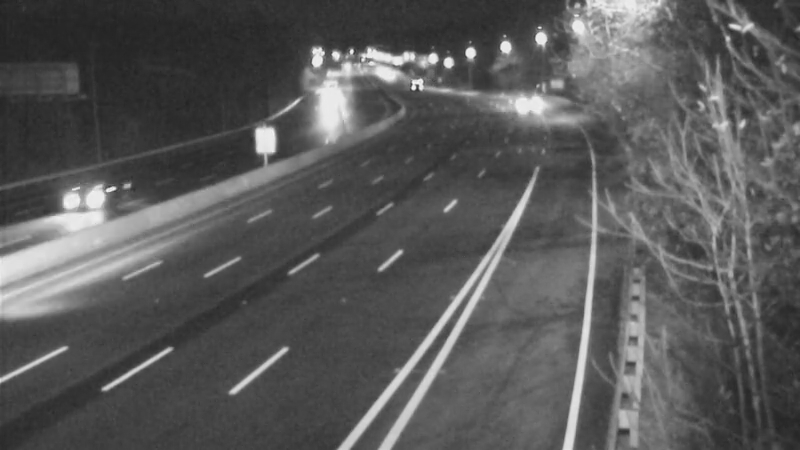vehicle: (52, 156, 132, 236), (389, 62, 439, 112), (491, 82, 541, 132)
